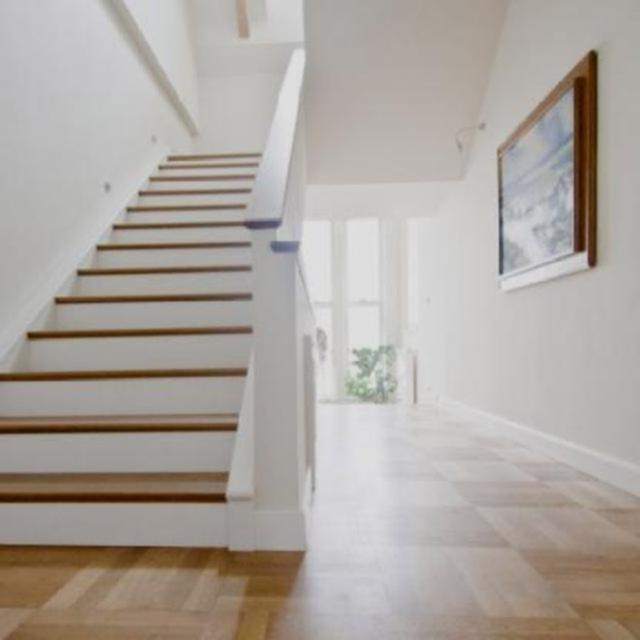stair: (1, 71, 326, 557)
